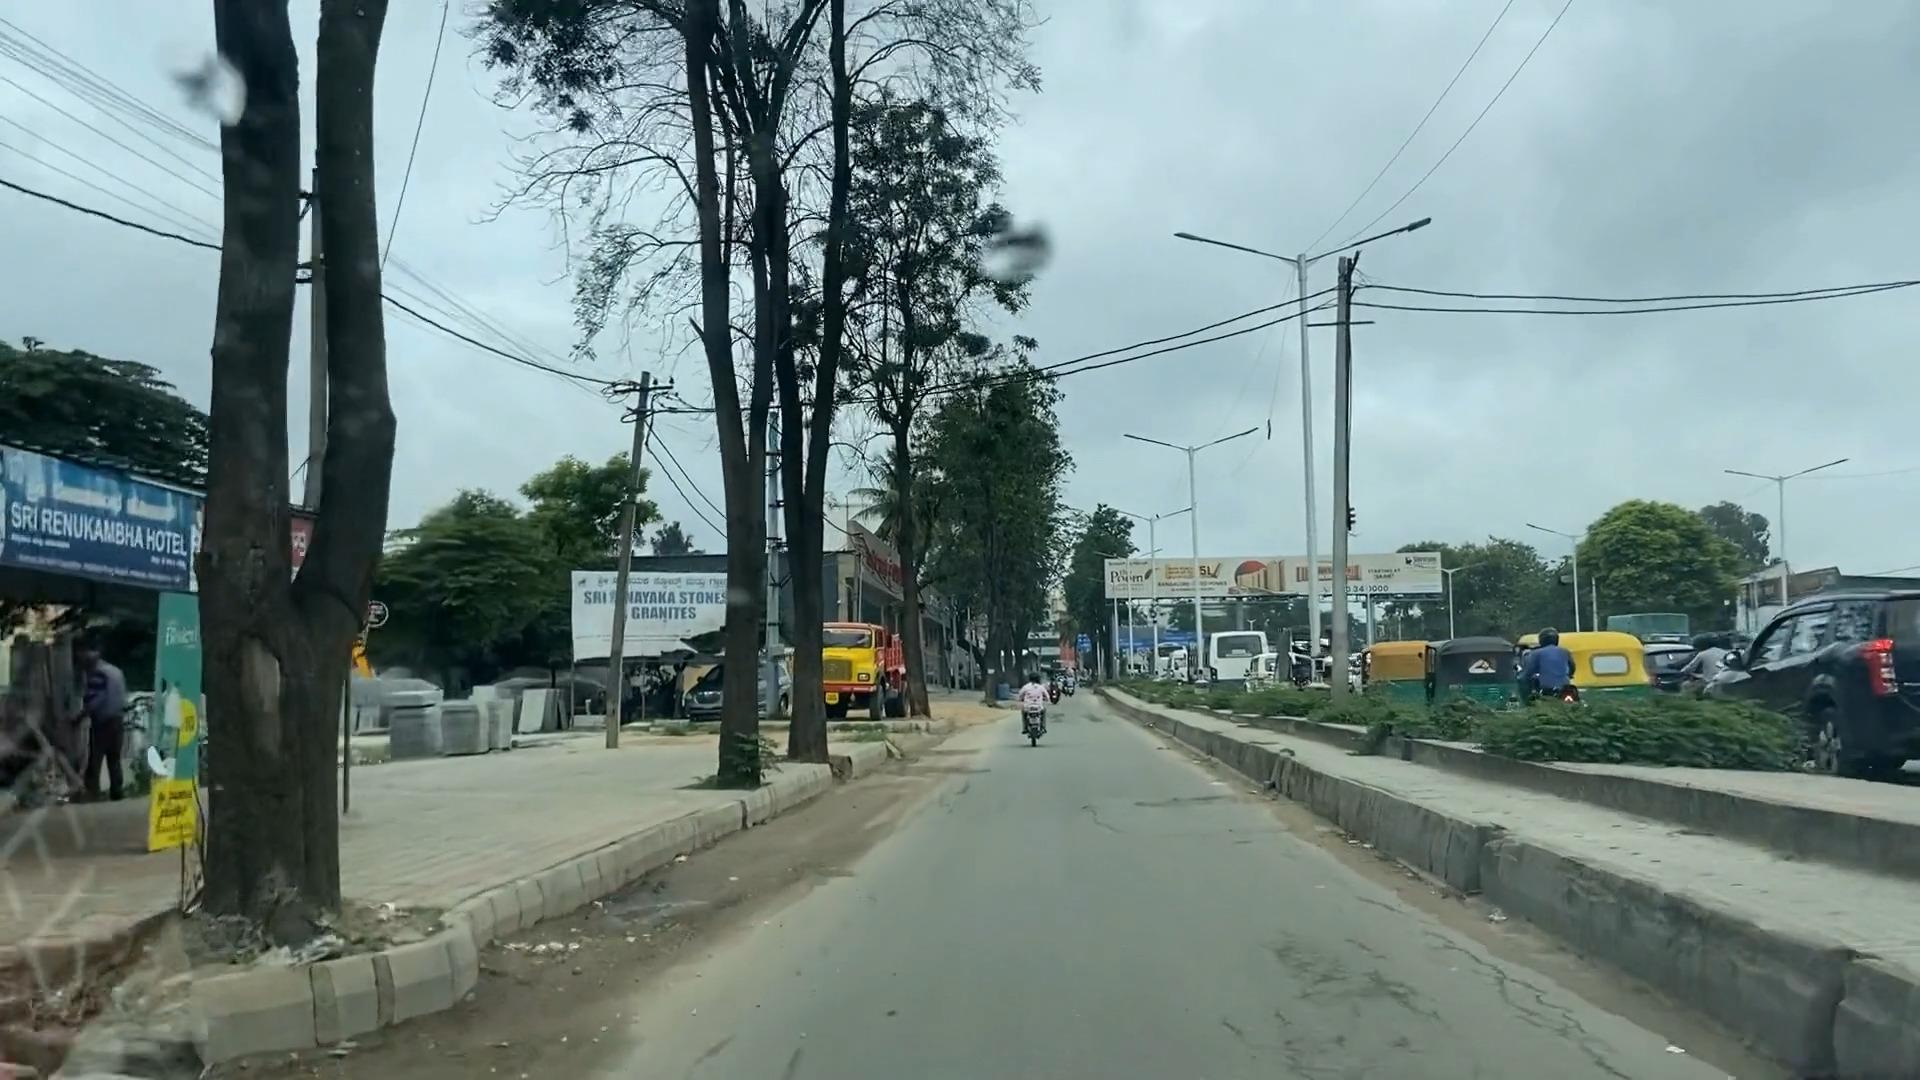RoadDamages: (1193, 910, 1585, 1080)
